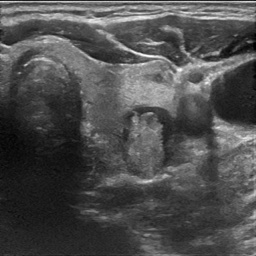mass: (117, 108, 171, 174)
